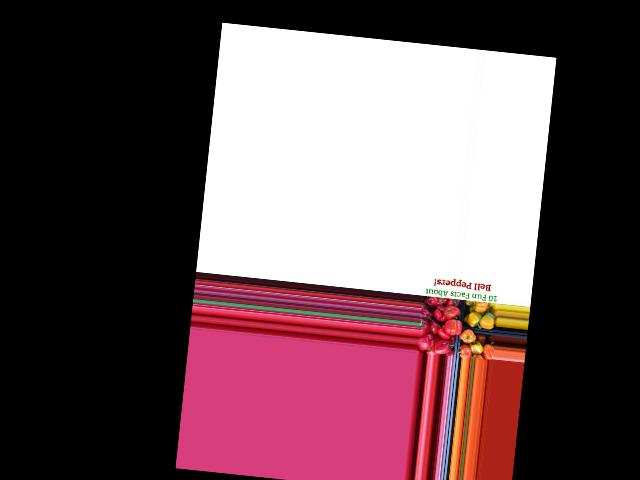bell_pepper: (428, 294, 451, 310)
